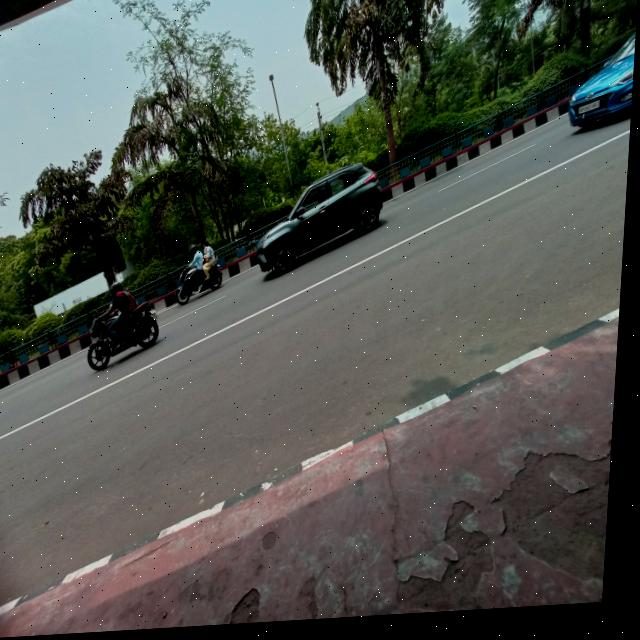bike: (79, 307, 166, 368), (177, 268, 228, 305)
car: (255, 164, 392, 274), (551, 43, 636, 143)
